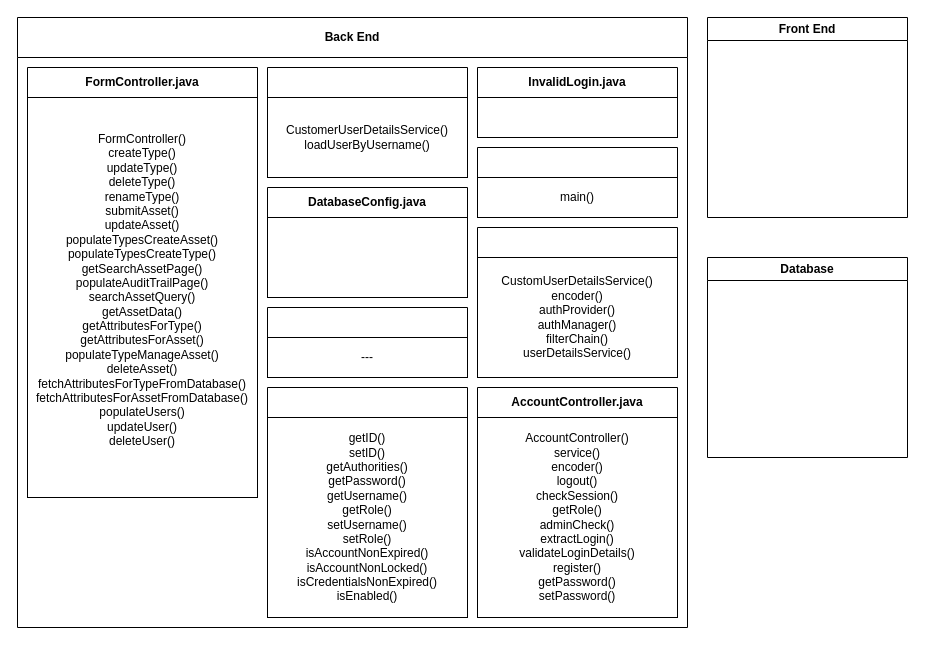
The diagram is 925 pixels wide and 645 high, and some of its shapes have lost their labels. Here are the shapes that lost their labels. From the top down, the box of each, then its label:
(266, 66, 468, 178): CustomUserDetailsService.java
(476, 96, 678, 138): InvalidLogin()
(476, 146, 678, 218): Main.java
(266, 216, 468, 298): DatabaseConfig() namedParameterJdbcTemplate()
(476, 226, 678, 378): SecurityConfig.java
(266, 306, 468, 378): UserReposotory.java
(266, 386, 468, 618): UserEntity.java
